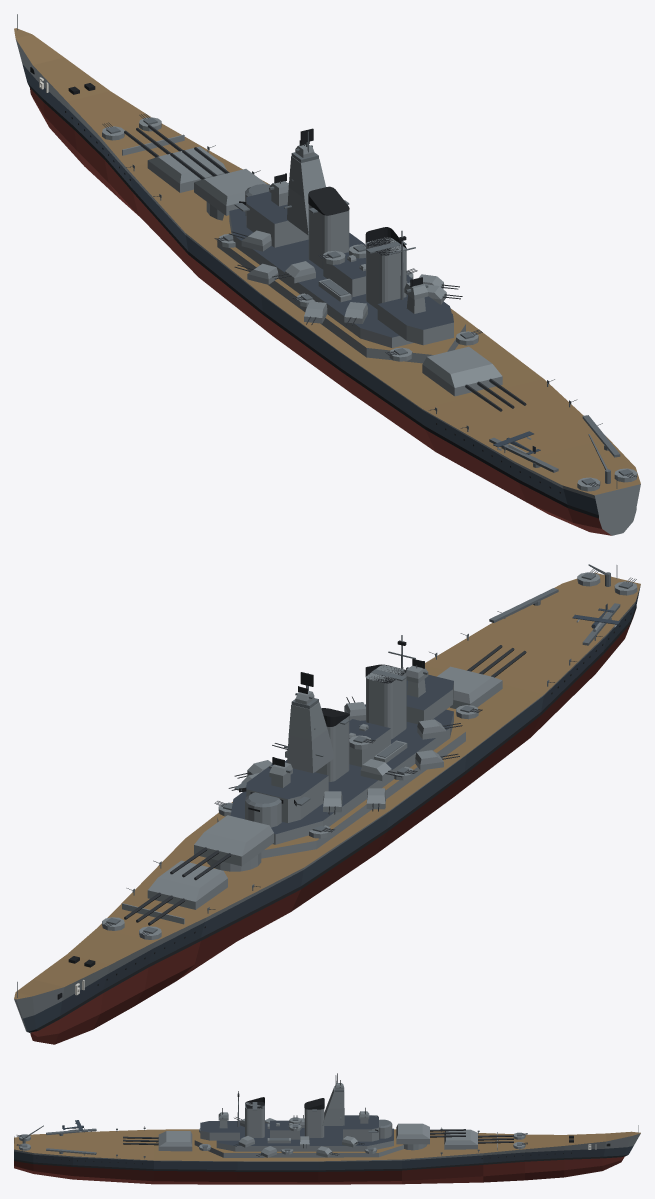
Rendered from iowa.glb.
3 views of the same model, one above another, from view 1: azimuth 30°, elevation 25°; view 2: azimuth 150°, elevation 25°; view 3: azimuth 270°, elevation 25° (orthographic). The views are drawn at different scales.
Visible parts, largest first — view 1: Hull, 02 level, 01 level, Turret 3 house, Aft superstructure, Aft funnel, Bridge block, Fwd funnel, Tower foremast, Turret 1 house, Turret 2 house, Midships 03 (+1 smaller); view 2: Hull, 02 level, Turret 2 house, Tower foremast, Bridge block, Turret 1 house, 01 level, Aft funnel, Aft superstructure, Turret 3 house, Fwd funnel, Midships 03 (+1 smaller); view 3: Hull, 02 level, 01 level, Bridge block, Turret 2 house, Aft superstructure, Turret 3 house, Tower foremast, Aft funnel, Turret 1 house, Fwd funnel, Midships 03 (+1 smaller).
Part boxes in pixels (x1=…): Hull: x1=14, y1=28, x2=640, y2=535; 02 level: x1=229, y1=208, x2=451, y2=347; 01 level: x1=217, y1=215, x2=465, y2=363; Turret 3 house: x1=422, y1=346, x2=502, y2=396; Aft superstructure: x1=377, y1=296, x2=453, y2=345; Aft funnel: x1=366, y1=237, x2=406, y2=309; Bridge block: x1=246, y1=191, x2=308, y2=247; Fwd funnel: x1=308, y1=204, x2=349, y2=269; Tower foremast: x1=287, y1=156, x2=325, y2=235; Turret 1 house: x1=147, y1=146, x2=226, y2=192; Turret 2 house: x1=194, y1=169, x2=266, y2=215; Midships 03: x1=323, y1=252, x2=365, y2=297; Hull: x1=14, y1=572, x2=640, y2=1044; 02 level: x1=230, y1=704, x2=453, y2=844; Turret 2 house: x1=194, y1=815, x2=273, y2=866; Tower foremast: x1=287, y1=702, x2=334, y2=773; Bridge block: x1=246, y1=764, x2=328, y2=822; Turret 1 house: x1=147, y1=860, x2=227, y2=909; 01 level: x1=217, y1=707, x2=465, y2=858; Aft funnel: x1=366, y1=665, x2=406, y2=739; Aft superstructure: x1=406, y1=674, x2=453, y2=724; Turret 3 house: x1=437, y1=666, x2=502, y2=708; Fwd funnel: x1=315, y1=716, x2=349, y2=781; Midships 03: x1=349, y1=719, x2=390, y2=766; Hull: x1=14, y1=1129, x2=640, y2=1184; 02 level: x1=216, y1=1123, x2=393, y2=1151; 01 level: x1=194, y1=1132, x2=403, y2=1157; Bridge block: x1=343, y1=1115, x2=378, y2=1141; Turret 2 house: x1=396, y1=1123, x2=429, y2=1144; Aft superstructure: x1=200, y1=1121, x2=239, y2=1140; Turret 3 house: x1=158, y1=1131, x2=192, y2=1151; Tower foremast: x1=322, y1=1087, x2=344, y2=1125; Aft funnel: x1=245, y1=1102, x2=264, y2=1137; Turret 1 house: x1=444, y1=1129, x2=477, y2=1149; Fwd funnel: x1=304, y1=1109, x2=324, y2=1137; Midships 03: x1=270, y1=1120, x2=299, y2=1139.
Bounding box in the file's own units: 39.93 × 49.98 × 270.
